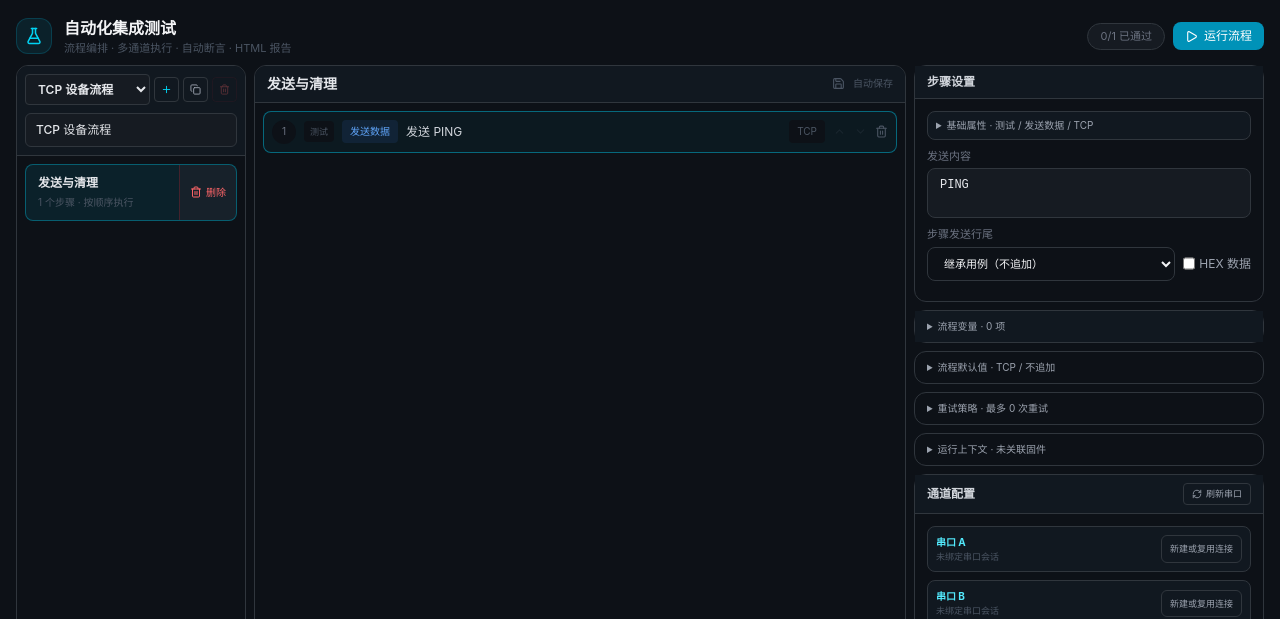
TestAutomationPage centralized Agent workflow › links a rerun to its baseline and reports a same-context candidate fix
Click the heading "运行上下文 · 未关联固件".
click(992, 448)  # box [938,442,1046,454]
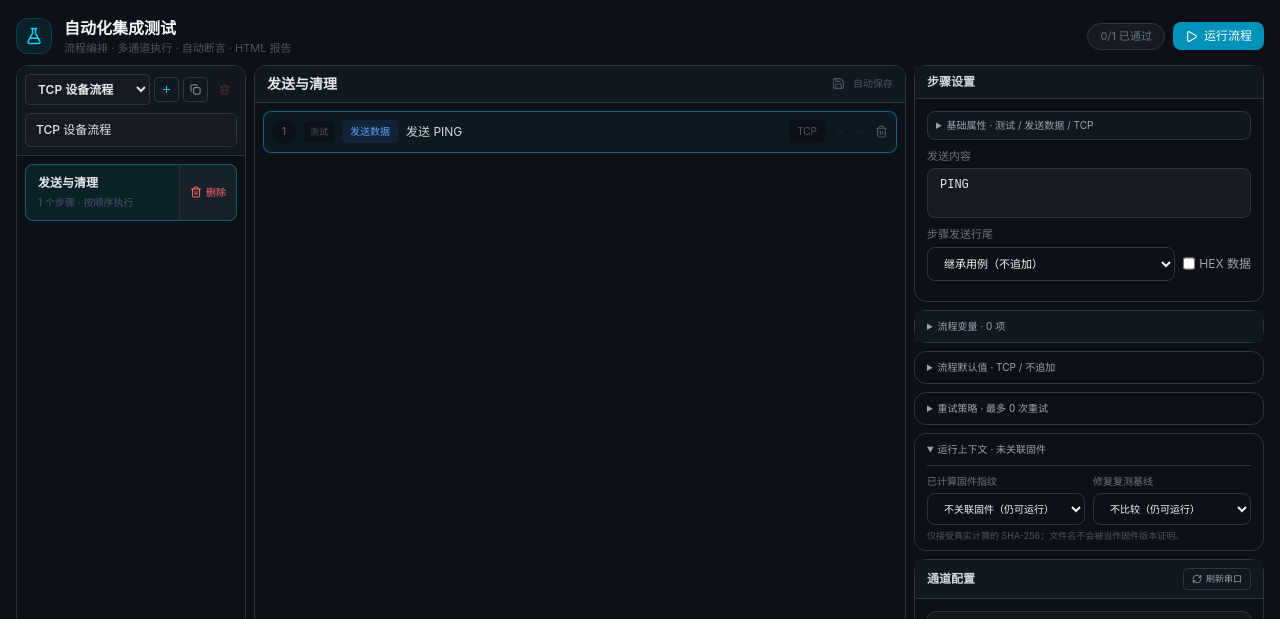
Select "firmware-1" in the dropdown labelled "已计算固件指纹" at x=1006, y=508, box [927,492,1085,524]
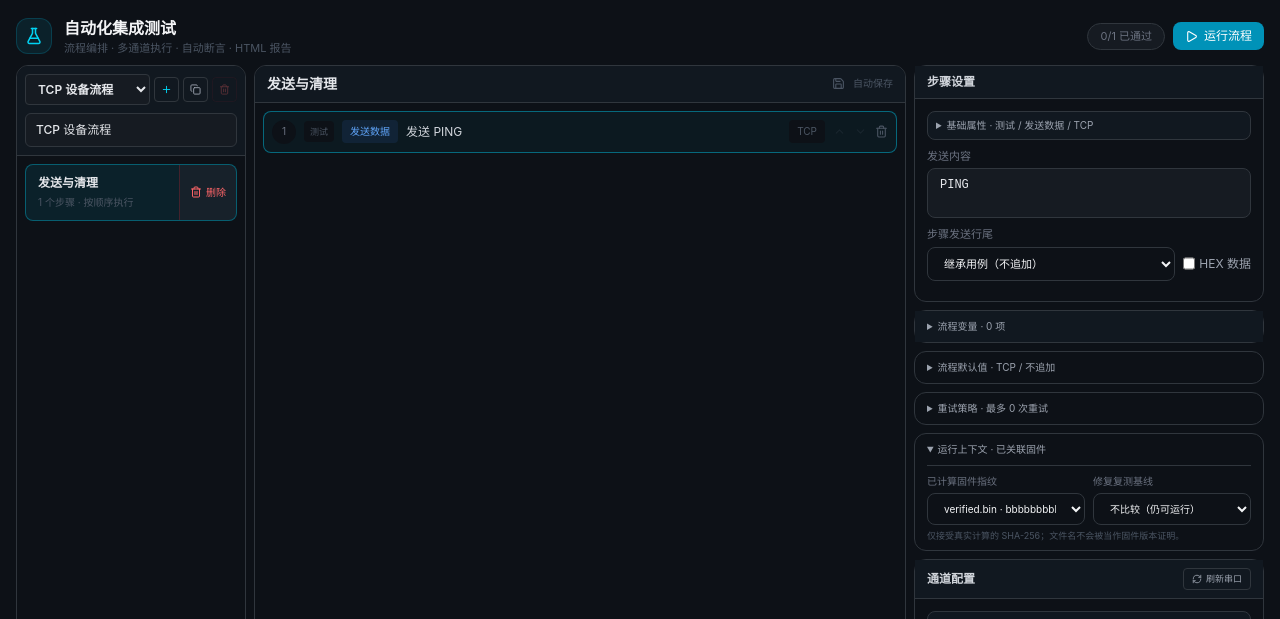
Select "10/13/2026, 12:00:00 AM · failed" in the dropdown labelled "修复复测基线" at x=1172, y=508, box [1093,492,1251,524]
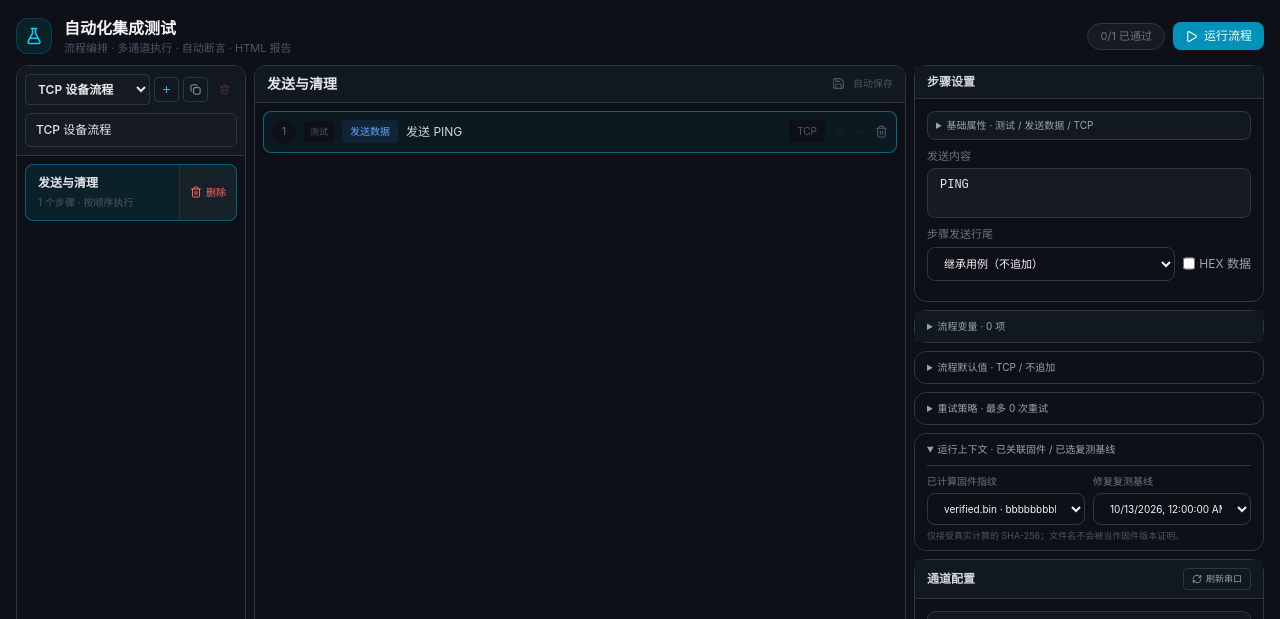
Click the button "运行流程".
click(1218, 36)  # box [1173,22,1264,50]
(page scrolled)
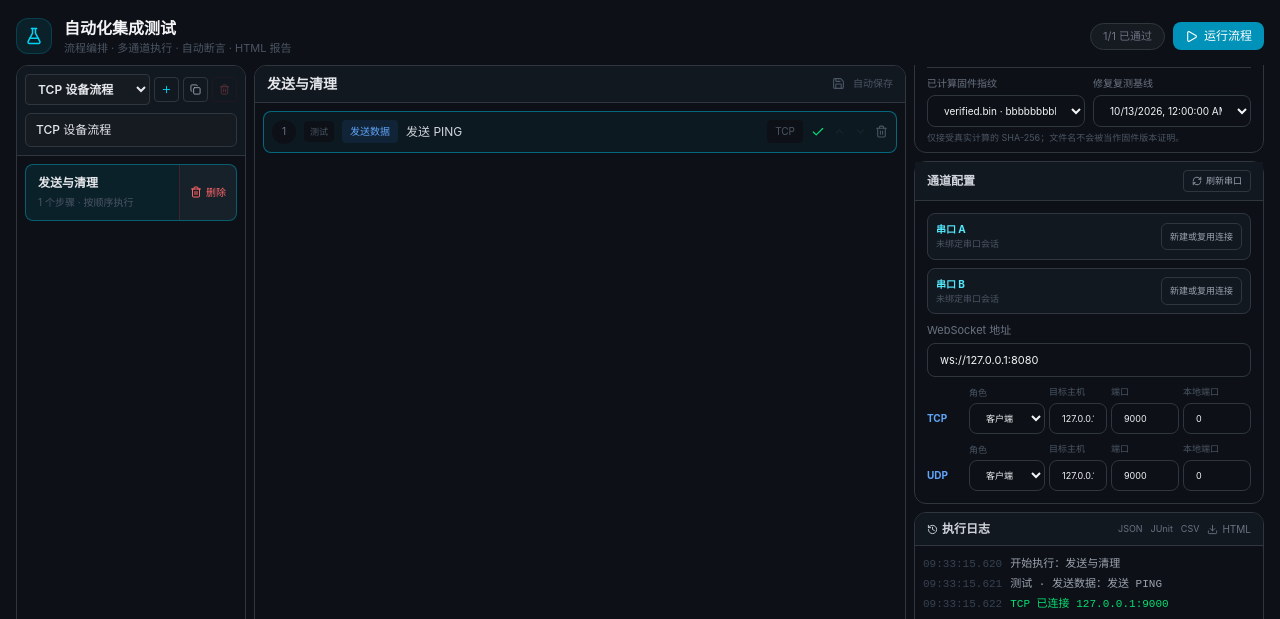
Click the button "执行日志".
click(958, 529)  # box [927,521,990,537]
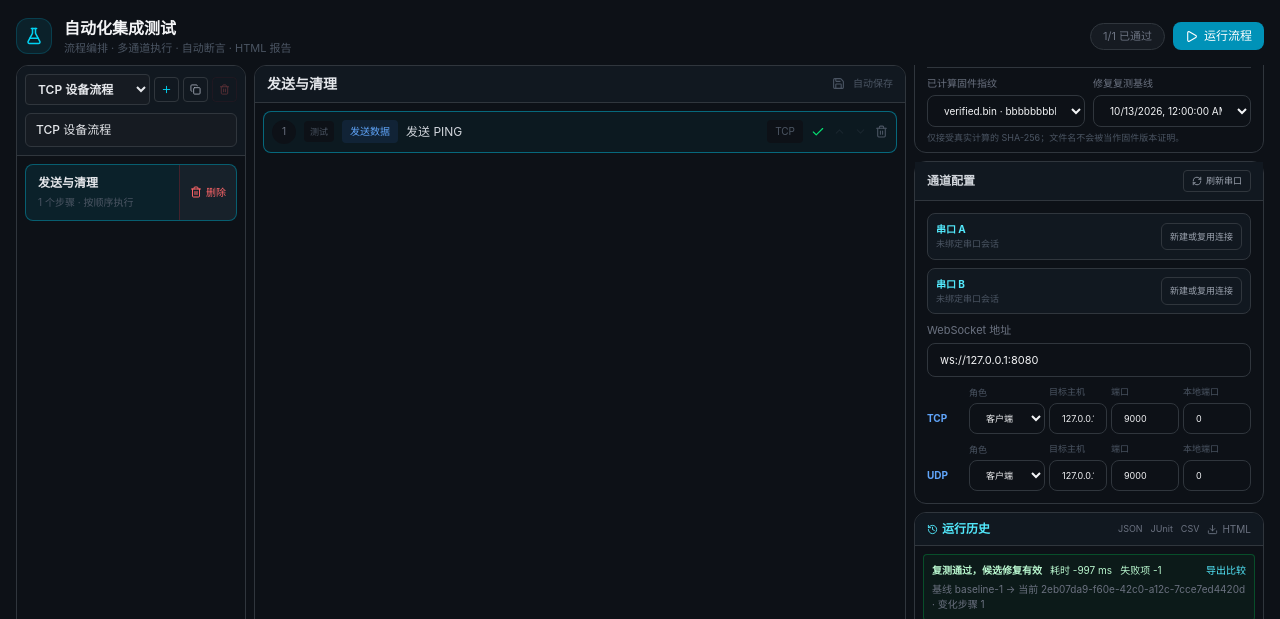
Expected: the text "复测通过，候选修复有效" is shown, [932,563,1042,578]
